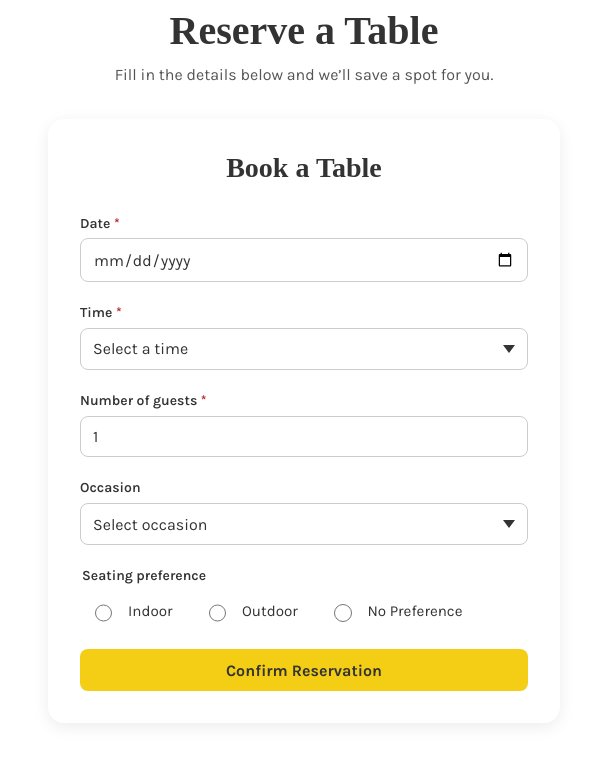
Test: BookingPage › shows error banner when submission fails
Type "2026-07-15" into the date field labelled "Date *" at {"x": 304, "y": 260}, box [80,238,528,282]
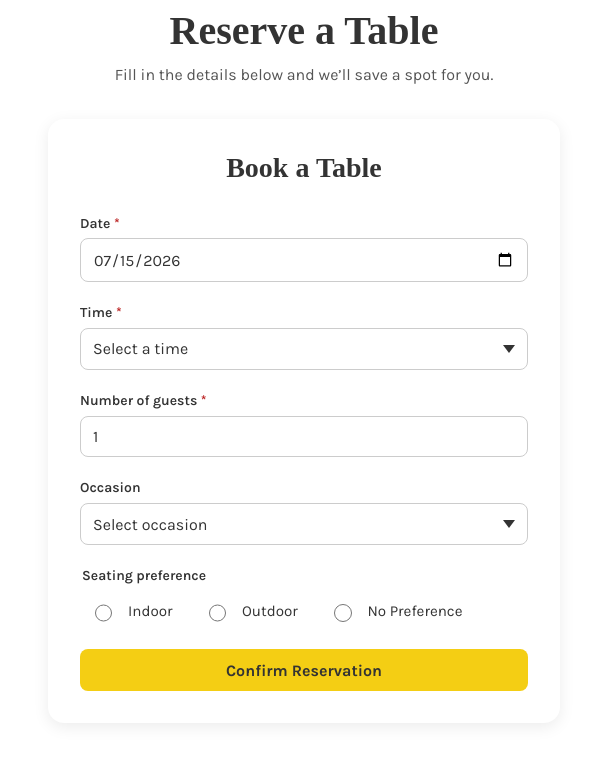
Select "6:00 PM" in the dropdown labelled "Time *" at {"x": 304, "y": 349}, box [80,328,528,370]
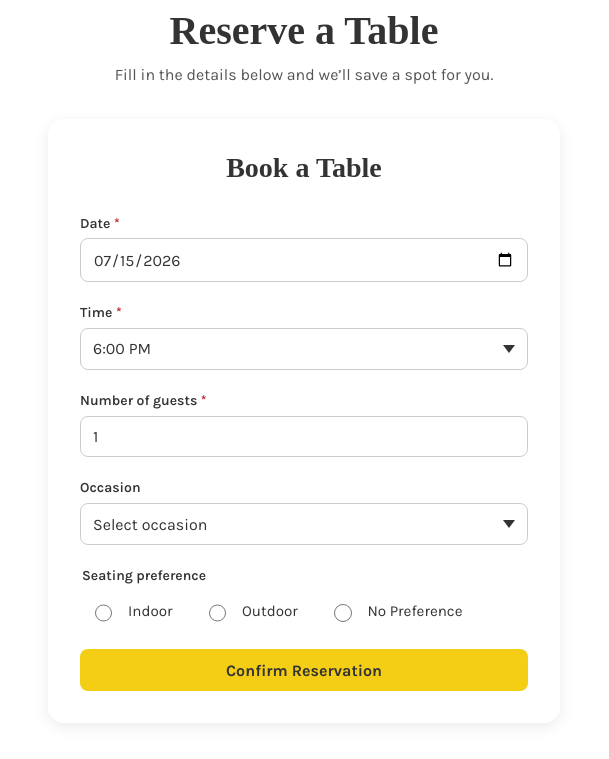
Replace the text in the number field labelled "Number of guests *" with "4" at {"x": 304, "y": 436}, box [80,416,528,457]
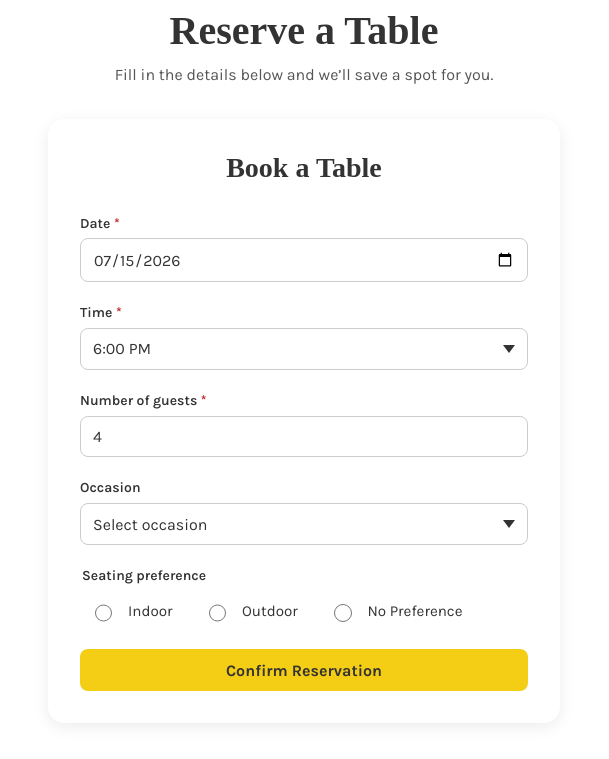
Click the button "Confirm Reservation" at {"x": 304, "y": 670}, box [80,650,528,691]
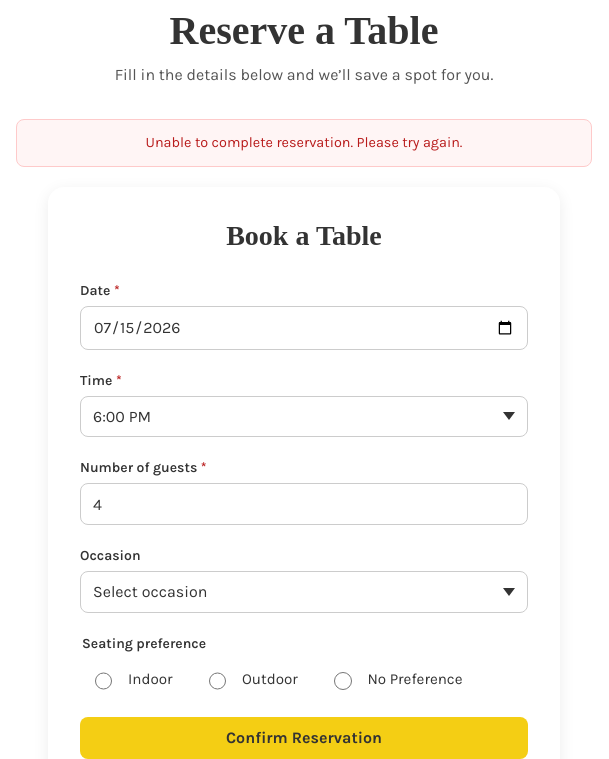
Check: the message shows "Unable", box [146,134,462,151]
